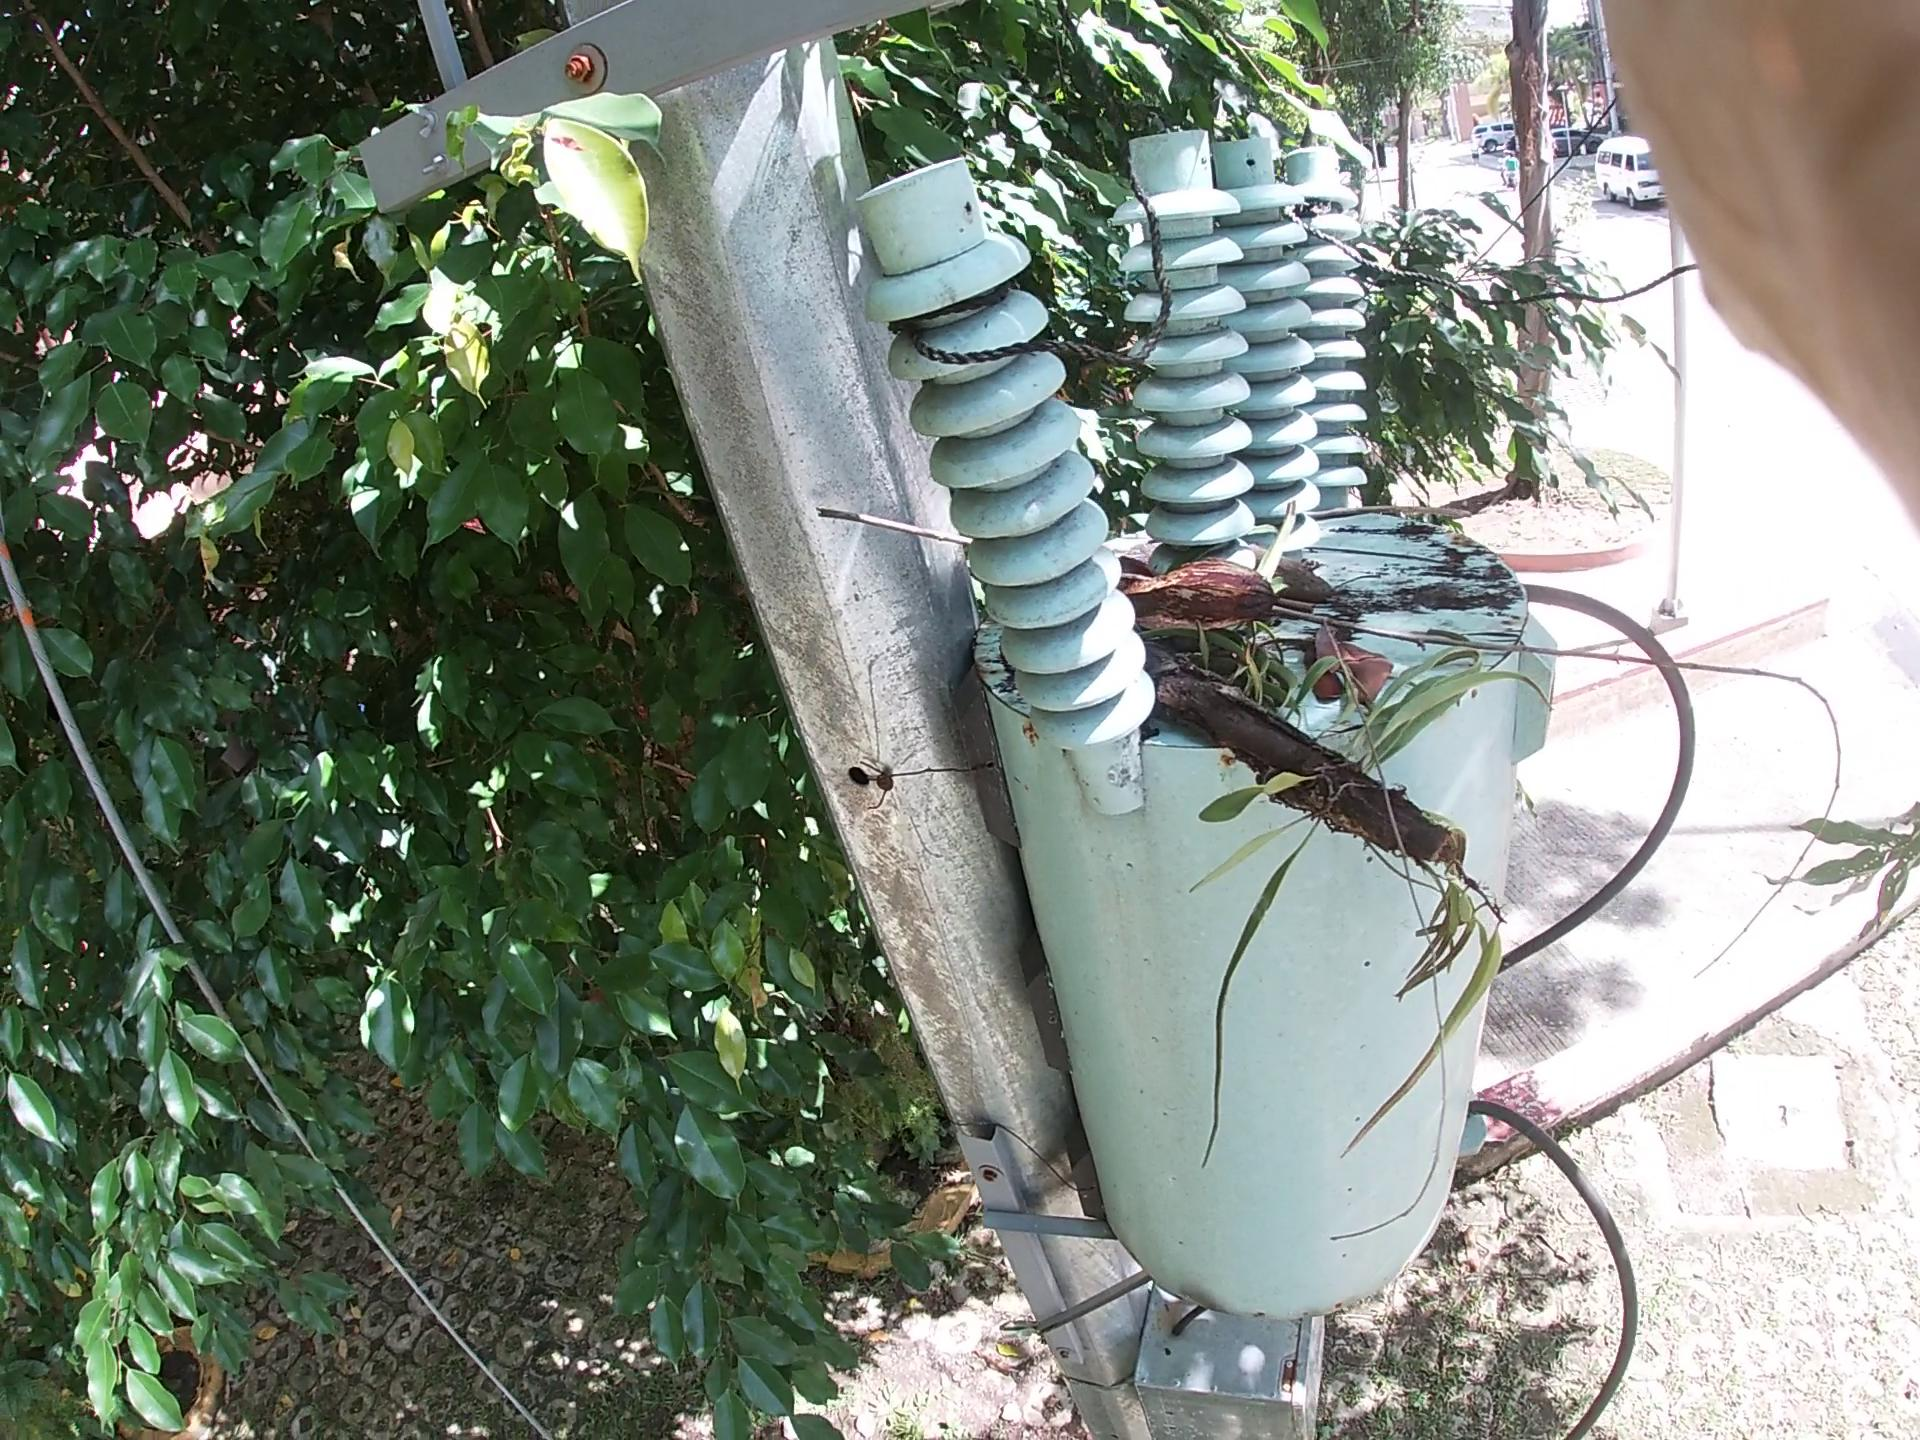branch with leaves: (791, 492, 1920, 793), (1008, 569, 1500, 980)
leaf: (1279, 625, 1383, 753)
mahogany fruit: (1137, 523, 1358, 681)
tree branch: (1217, 452, 1606, 585)
